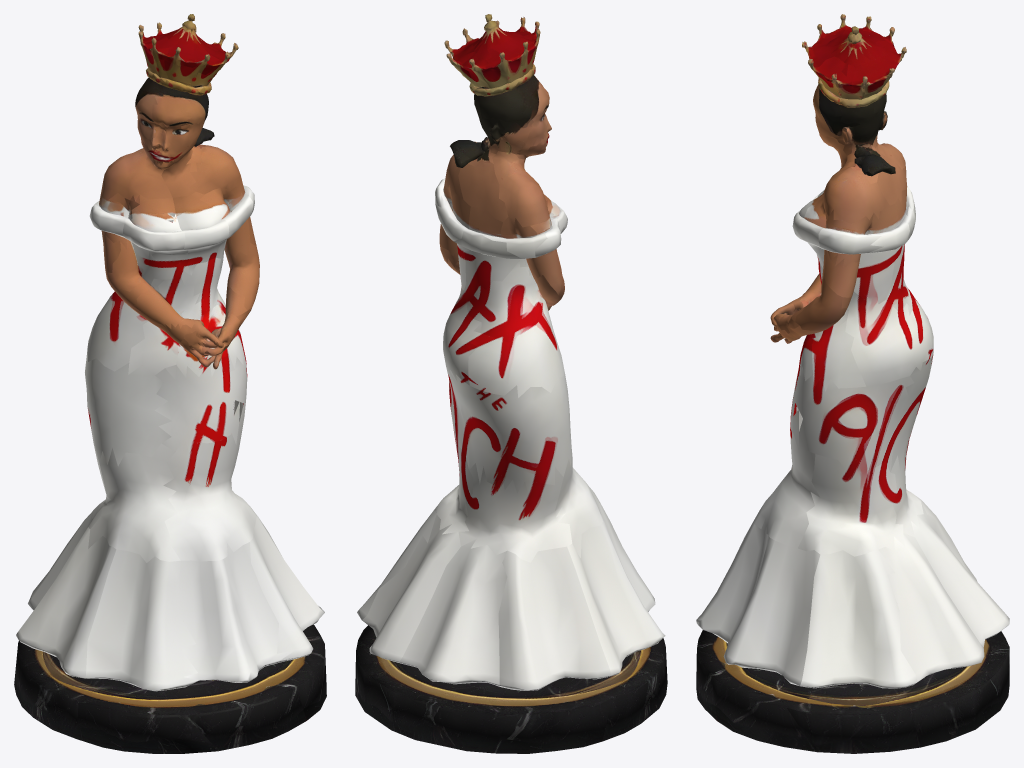
The model's file is left-queen.glb.
3 views of the same model, side by side, from view 1: azimuth 30°, elevation 25°; view 2: azimuth 150°, elevation 25°; view 3: azimuth 270°, elevation 25° (orthographic).
Bounding box in the file's own units: 0.4229 × 1 × 0.4238.
1 material, 1 textured.
